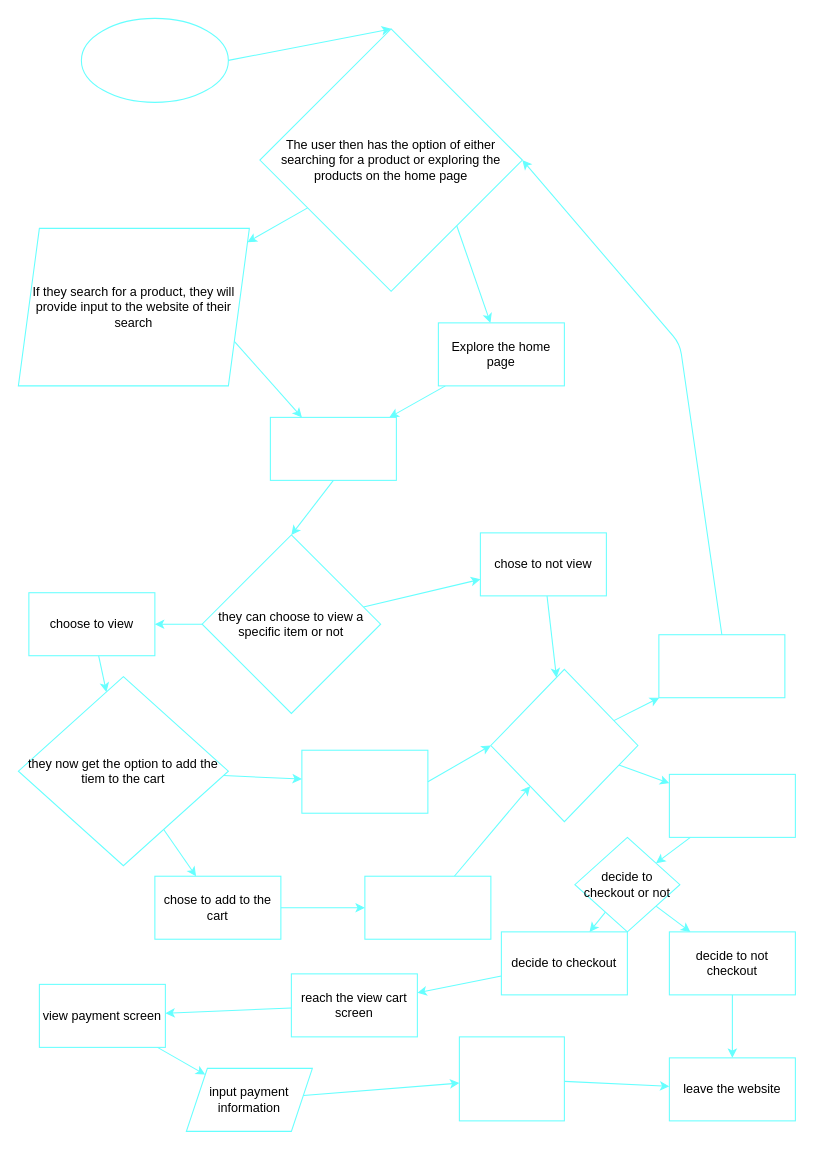
Image size: 814x1150. Some labels were removed from this diagram. Each missing label, with the centre of its shape:
"added to cart confirmation" belongs at point 427,907.
"after payment they will recieve order confirmation screen and email" belongs at point 511,1078.
"choose to continue shopping ot not" belongs at point 564,745.
"chose not to add to the cart" belongs at point 364,781.
"chose to continue shopping" belongs at point 721,666.
"chose to not continue shopping" belongs at point 731,805.
"the user will then begin looking over the products" belongs at point 332,448.
"User begins by entering the website" belongs at point 154,59.
